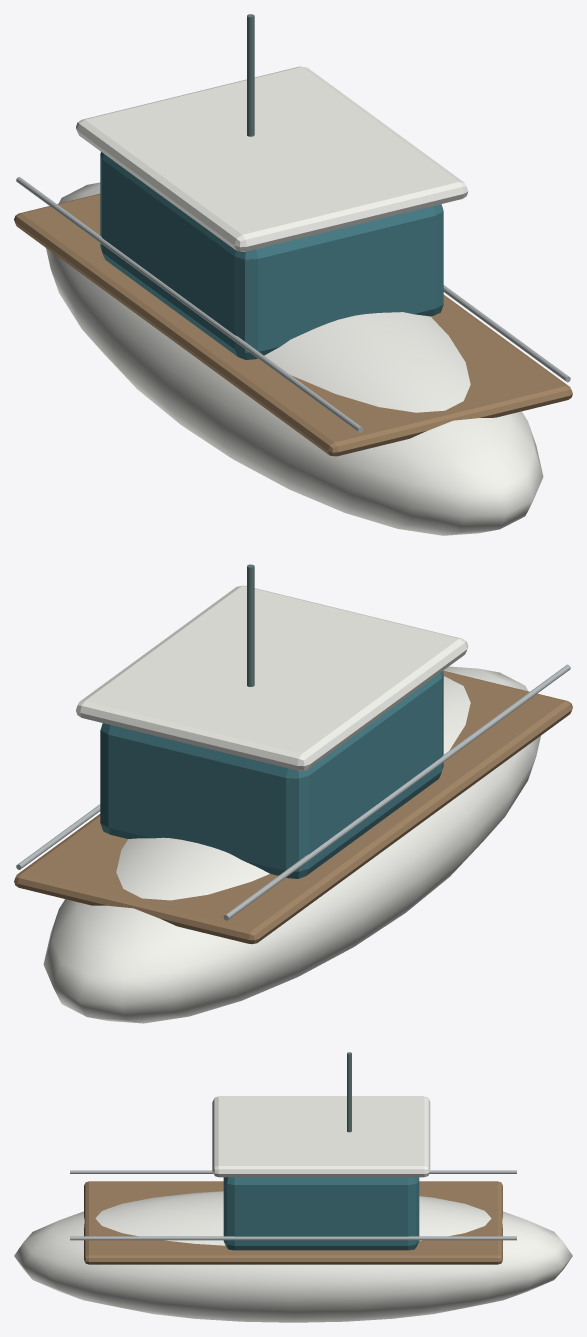
Rendered from harbor-launch-s05.glb.
The picture shows the model from 3 angles, top to bottom: view 1: azimuth 30°, elevation 25°; view 2: azimuth 150°, elevation 25°; view 3: azimuth 270°, elevation 25°; orthographic projection. The views are drawn at different scales.
Visible parts, largest first — view 1: harbor-launch_white, harbor-launch_glass, harbor-launch_wood, harbor-launch_silver, harbor-launch_steel; view 2: harbor-launch_white, harbor-launch_glass, harbor-launch_wood, harbor-launch_silver, harbor-launch_steel; view 3: harbor-launch_white, harbor-launch_wood, harbor-launch_glass, harbor-launch_silver, harbor-launch_steel.
Boxes of the visible parts, bbox=[...] form: harbor-launch_white: bbox=[46, 66, 543, 535]; harbor-launch_glass: bbox=[100, 152, 443, 359]; harbor-launch_wood: bbox=[14, 193, 572, 456]; harbor-launch_silver: bbox=[16, 177, 570, 432]; harbor-launch_steel: bbox=[247, 14, 254, 136]; harbor-launch_white: bbox=[43, 585, 540, 1023]; harbor-launch_glass: bbox=[100, 671, 443, 878]; harbor-launch_wood: bbox=[14, 670, 572, 944]; harbor-launch_silver: bbox=[16, 664, 570, 920]; harbor-launch_steel: bbox=[247, 564, 254, 686]; harbor-launch_white: bbox=[14, 1096, 572, 1322]; harbor-launch_wood: bbox=[84, 1181, 502, 1264]; harbor-launch_glass: bbox=[223, 1177, 419, 1250]; harbor-launch_silver: bbox=[70, 1170, 516, 1240]; harbor-launch_steel: bbox=[347, 1052, 351, 1132].
Size of the model in its own units: 3.5 by 5.05 by 10.
